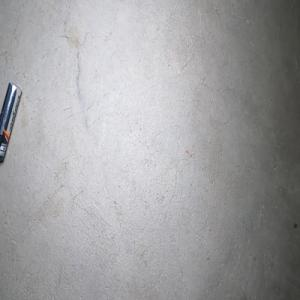Battery: (0, 81, 22, 162)
